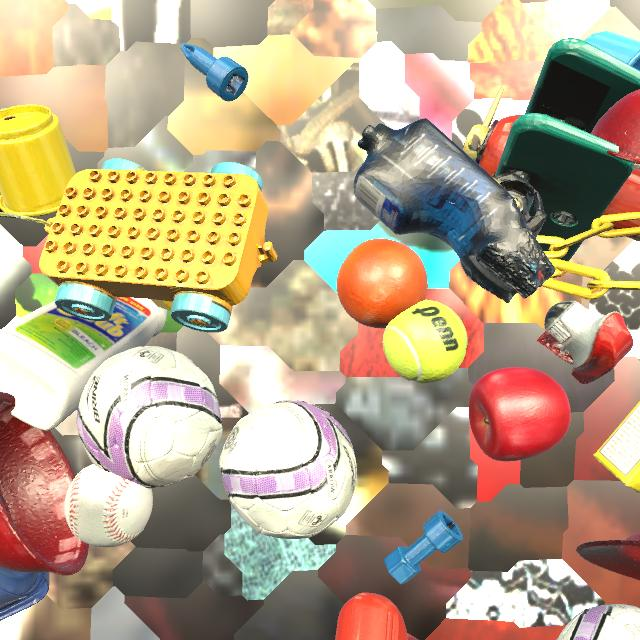ycb_004_sugar_box: (593, 401, 640, 492)
ycb_013_apple: (468, 367, 571, 461)
ycb_017_orange: (337, 239, 428, 329)
ycb_018_plum: (522, 214, 526, 221)
